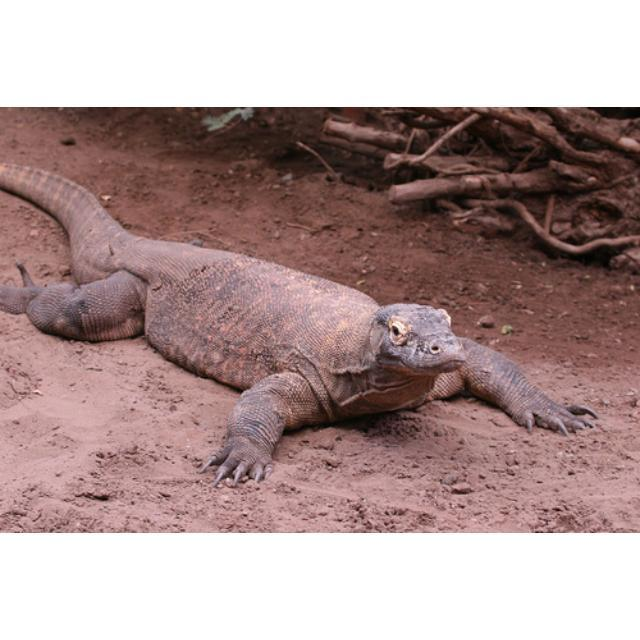KomodoDragon: (1, 157, 598, 487)
